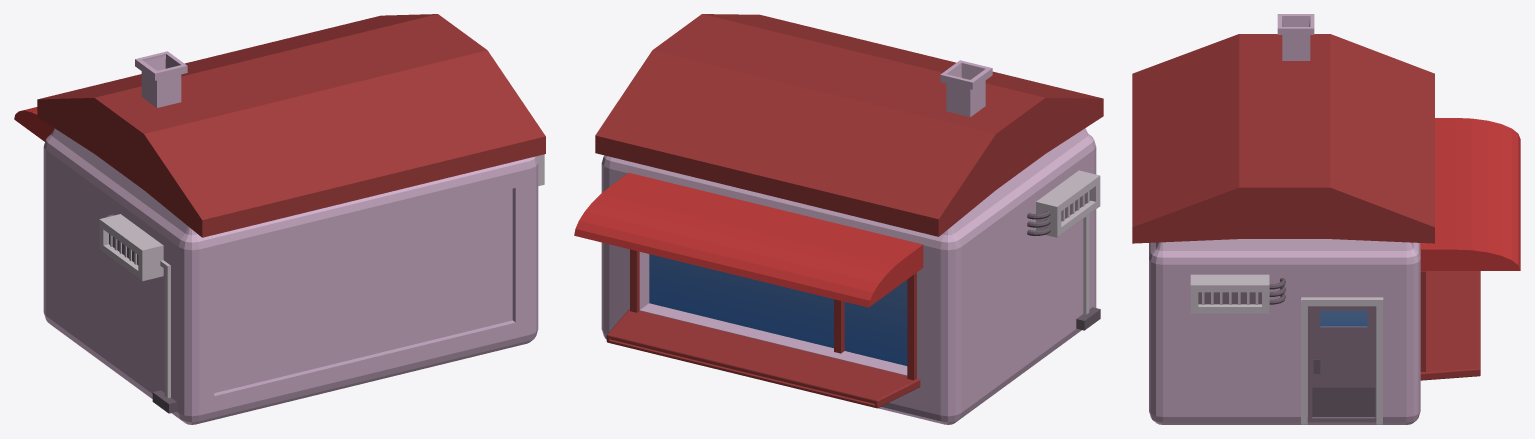
The model's file is c7b2380a-9cae-41dc-8456-46b6bda93f9d.glb.
3 renders of one model, left to right at view 1: azimuth 30°, elevation 25°; view 2: azimuth 150°, elevation 25°; view 3: azimuth 270°, elevation 25°, orthographic. The views are drawn at different scales.
Parts seen in each view (by area): view 1: Node; view 2: Node; view 3: Node.
Part boxes in pixels (x1,y1,x2,y2): Node: (14,14,545,424); Node: (574,14,1103,424); Node: (1132,14,1520,424).
Bounding box in the file's own units: 583 × 412 × 531.
1 material, 1 textured.
